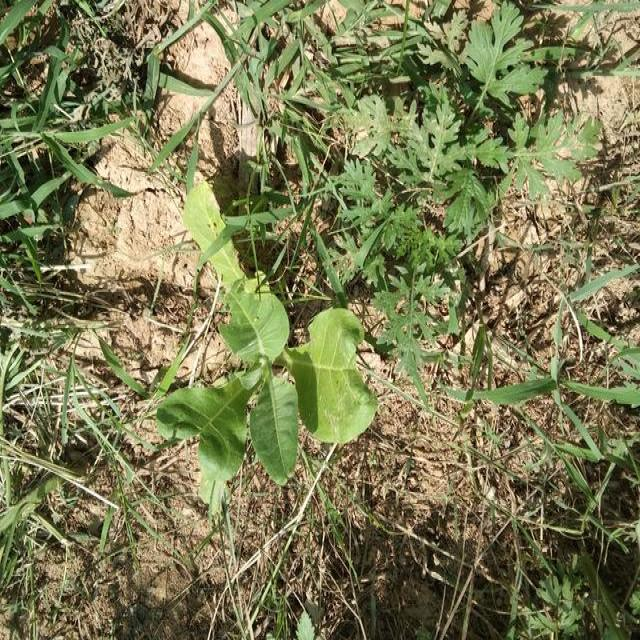crop: (158, 183, 372, 494)
